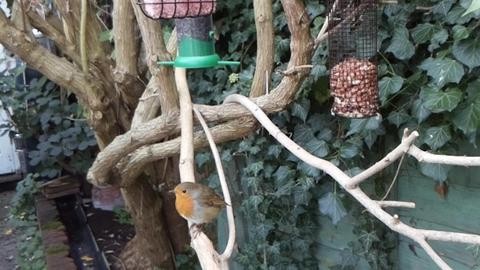robin: (168, 182, 233, 239)
